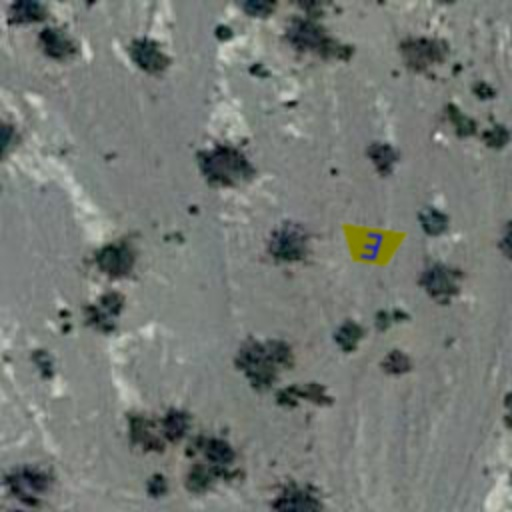trapezoid: (332, 206, 412, 286)
